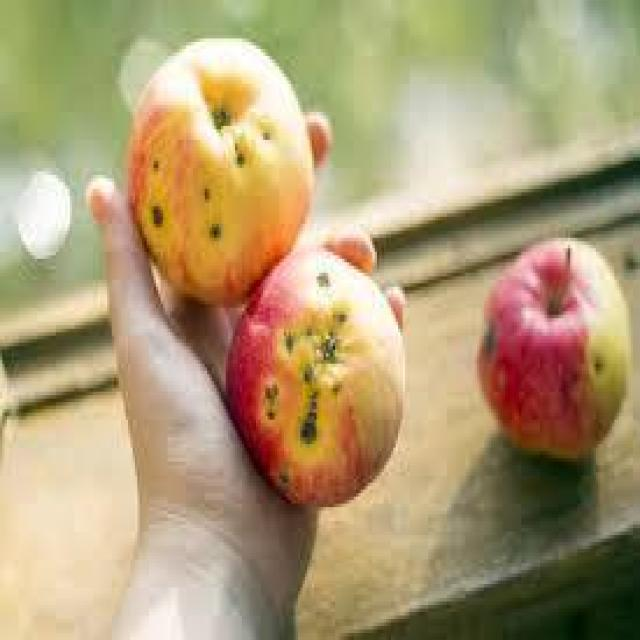maca: (126, 35, 321, 304), (223, 241, 405, 507), (474, 234, 630, 458)
